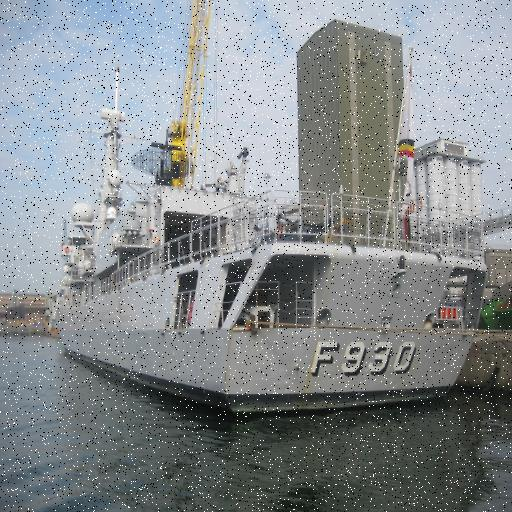Fragata: (51, 44, 490, 427)
